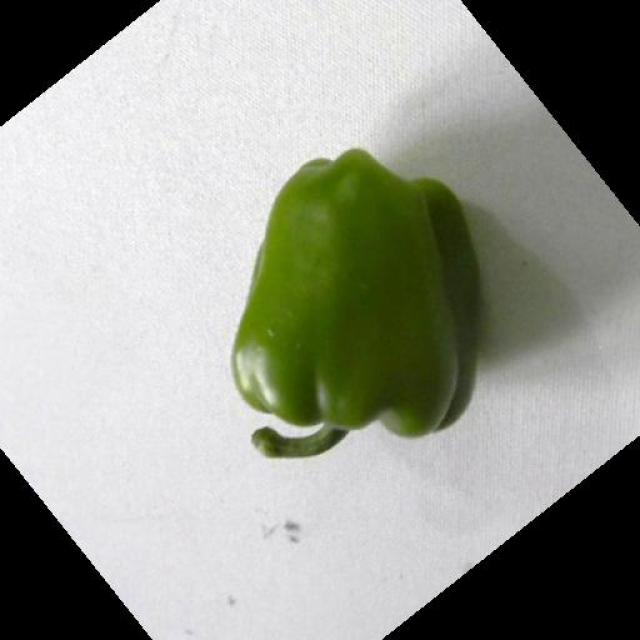Fresh_Capsicum: (264, 172, 468, 435)
